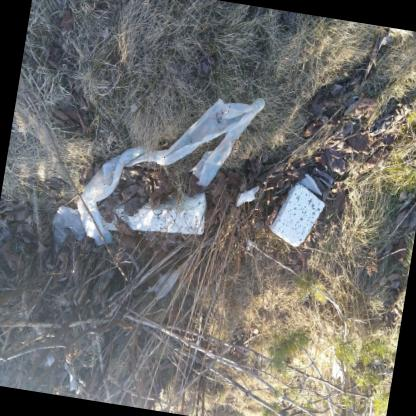Plastic: (76, 96, 264, 244), (51, 205, 84, 250), (142, 265, 179, 298), (295, 172, 320, 194), (235, 184, 258, 206), (66, 367, 77, 389), (45, 353, 53, 364)
Waste: (100, 191, 206, 233), (268, 182, 323, 245)
